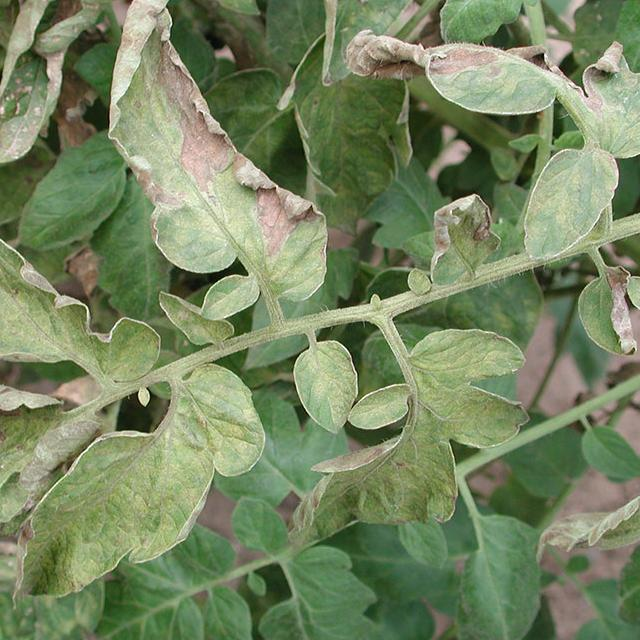Tomato mold leaf: (103, 0, 333, 304), (10, 356, 268, 604), (349, 17, 640, 149), (0, 196, 165, 385), (512, 145, 628, 269), (290, 335, 372, 435), (423, 191, 501, 291), (343, 380, 429, 434), (623, 273, 640, 352)
